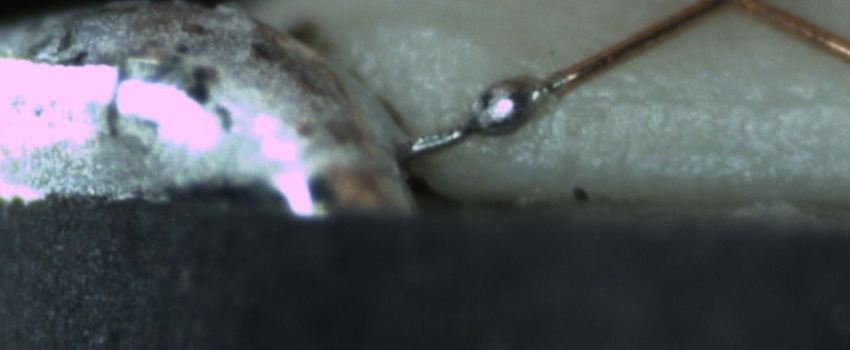CL: (688, 0, 771, 18)
DL: (559, 69, 850, 133)
TB: (466, 75, 555, 136)
TS: (405, 73, 567, 158)
TTCW: (393, 49, 608, 161)
